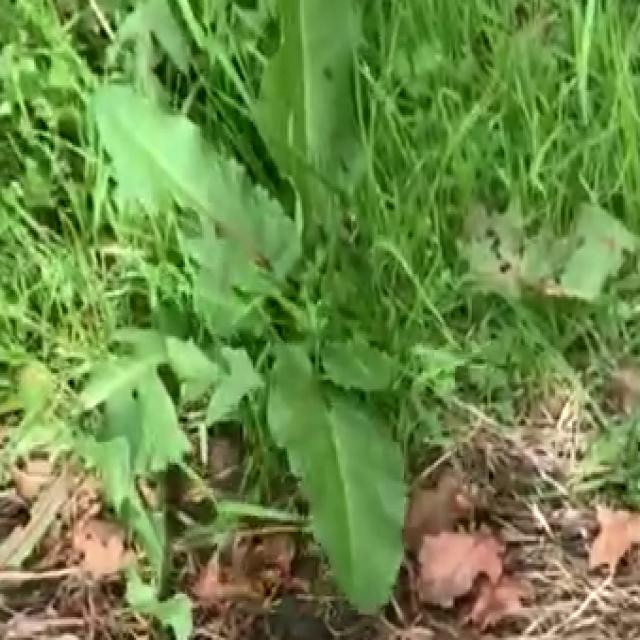organic waste: (51, 0, 551, 576)
